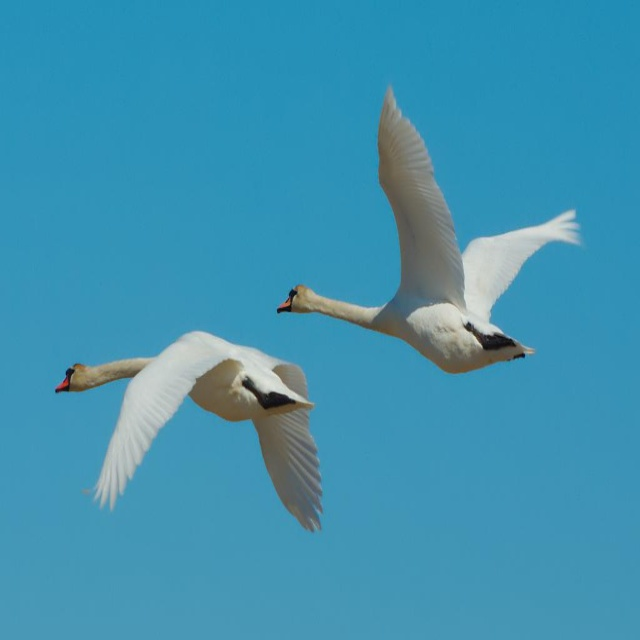Goose: (276, 87, 581, 374), (50, 326, 321, 538)
